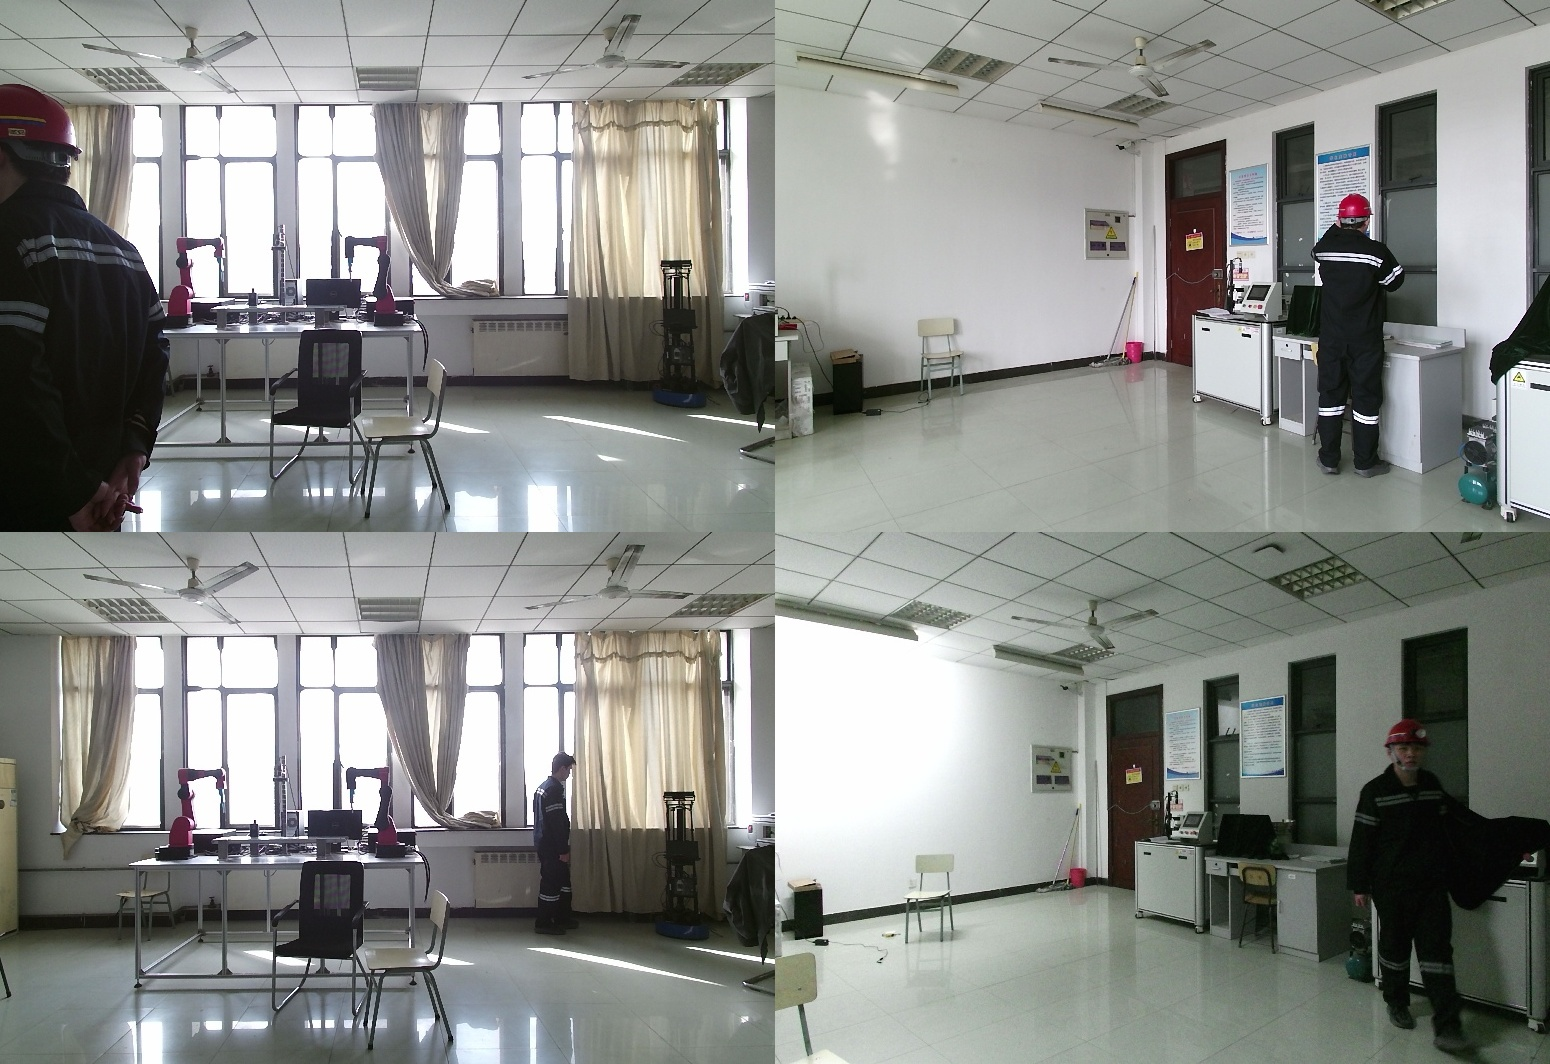person: (1, 83, 168, 532), (1354, 719, 1485, 1040), (1307, 193, 1426, 474), (535, 758, 602, 941)
